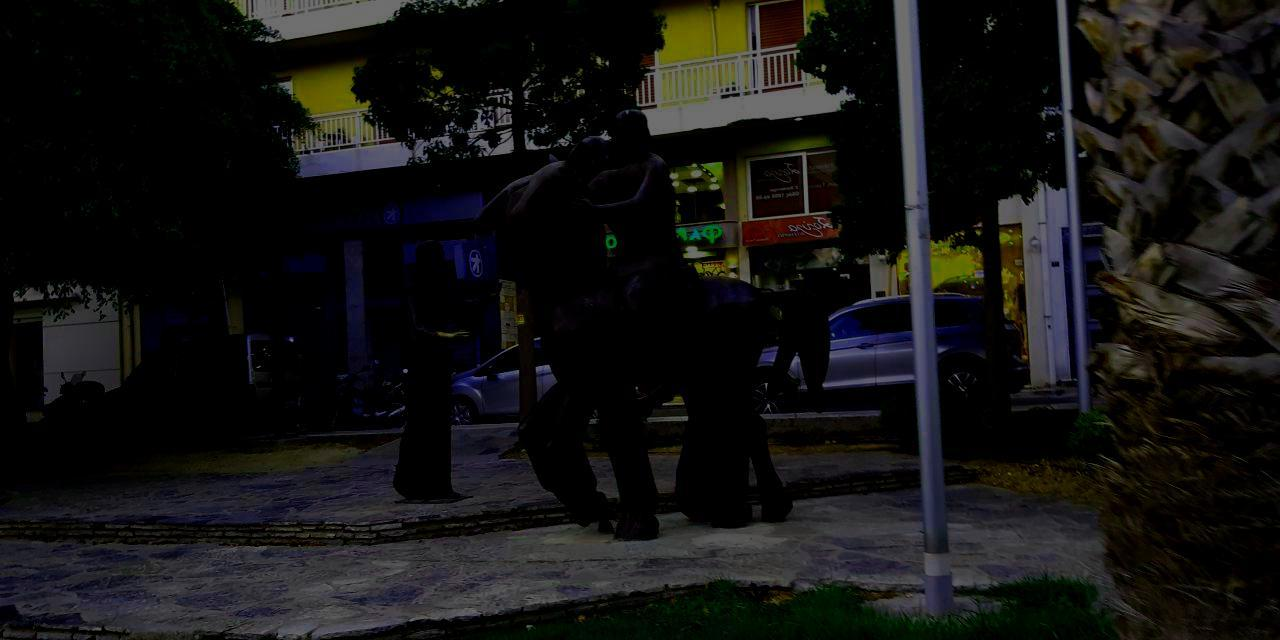Aretousa: (391, 111, 831, 544)
